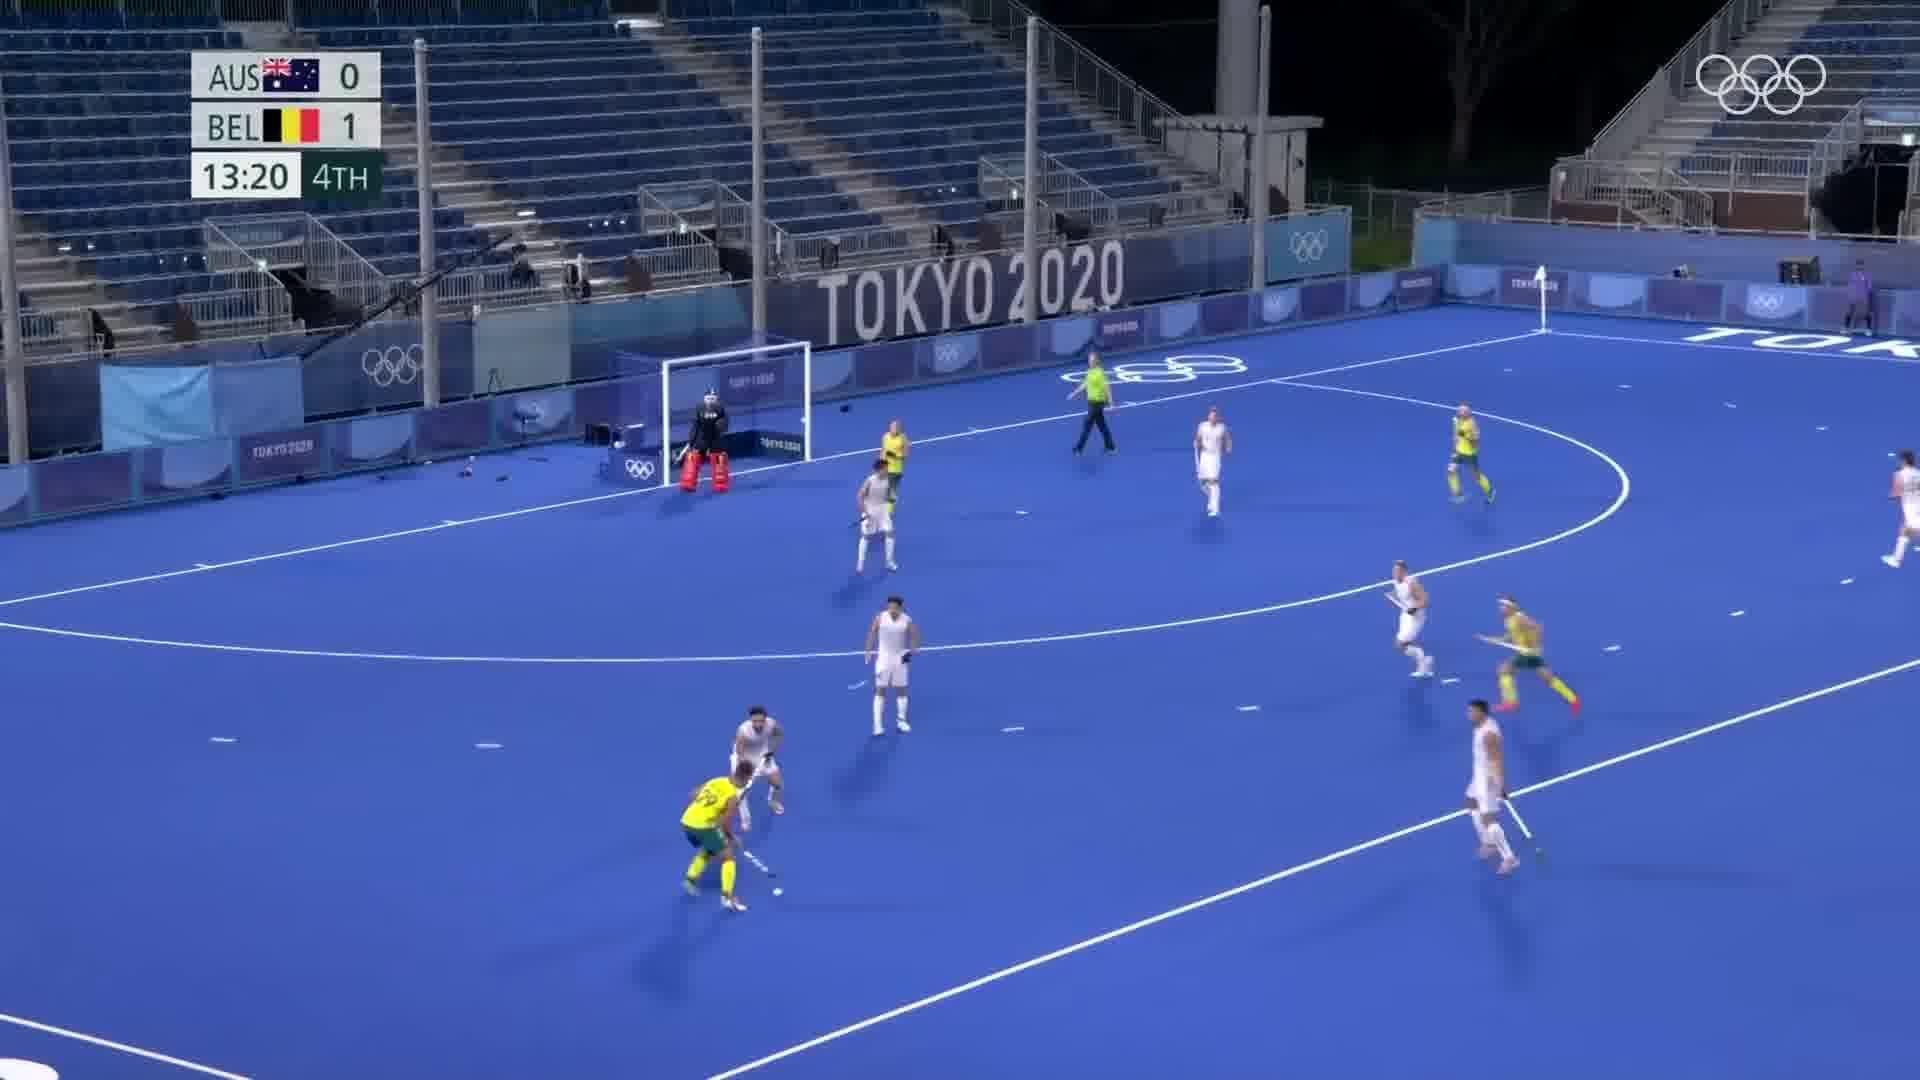ball: (766, 882, 794, 905)
